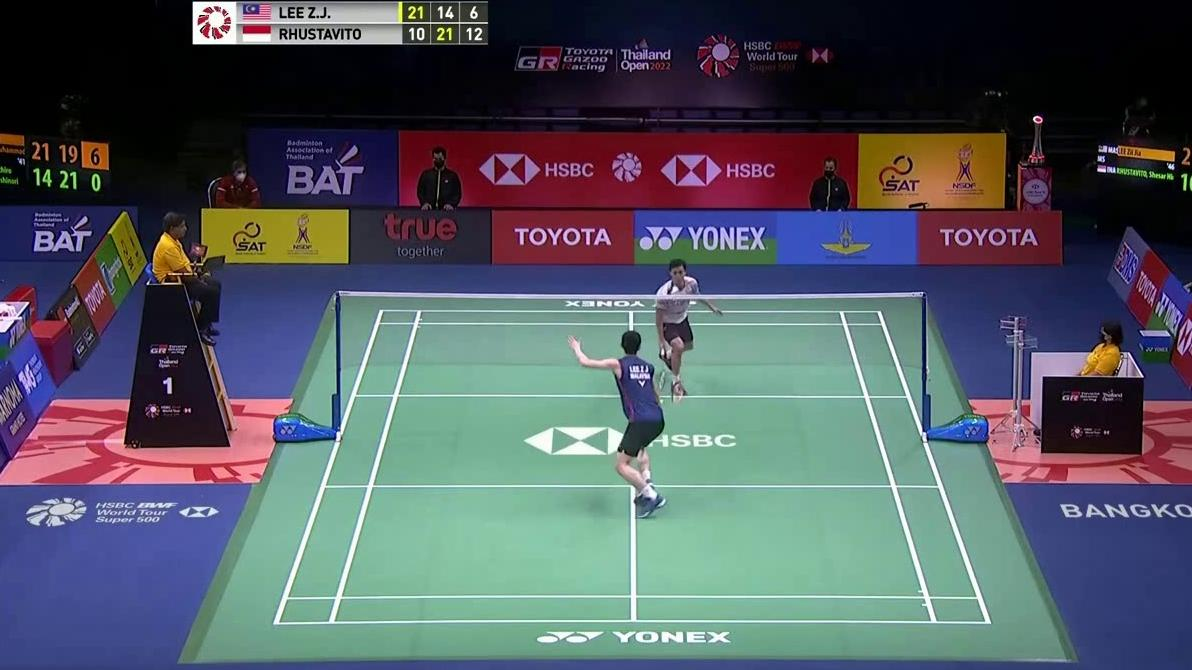racket: (657, 345, 669, 391)
shuttle: (659, 384, 685, 405), (671, 286, 678, 295)
